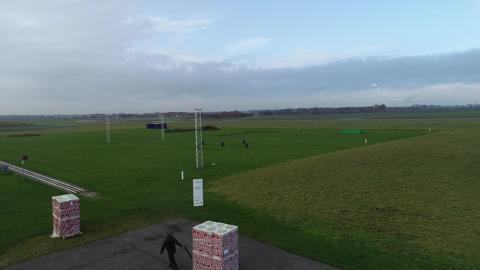RockwoolPallet: (49, 194, 82, 236)
